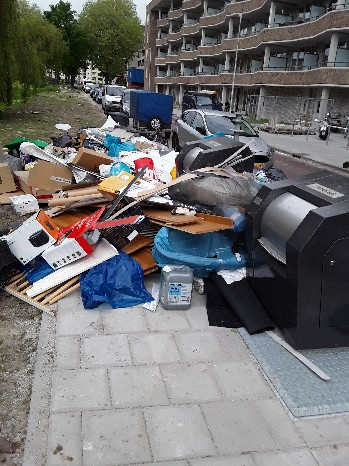Container: (253, 183, 349, 346), (183, 132, 231, 171)
Plastic: (161, 270, 191, 320)
Rest: (168, 201, 245, 334), (11, 188, 85, 290), (58, 220, 134, 304), (135, 166, 263, 208), (97, 147, 142, 233), (25, 142, 71, 202), (55, 133, 107, 183), (103, 116, 148, 164)
Voertuig: (174, 104, 263, 159), (103, 81, 144, 123), (185, 83, 219, 124), (78, 77, 106, 103)
